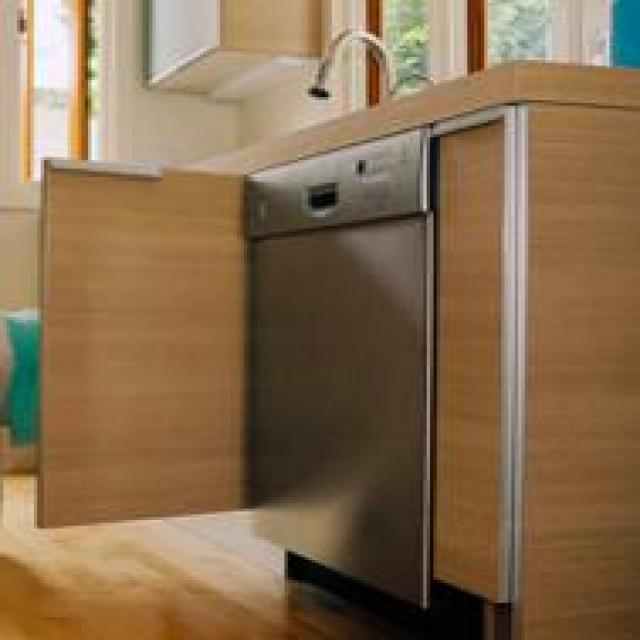dishwasher: (241, 123, 434, 603)
